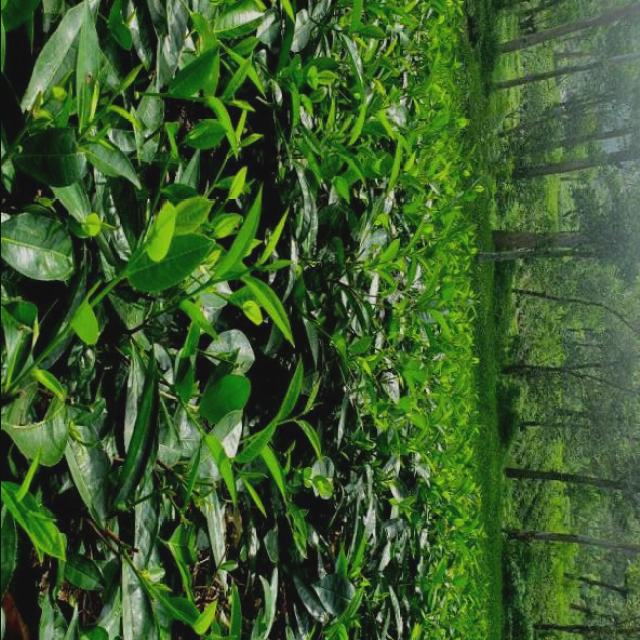Stem: (119, 273, 125, 278), (102, 107, 108, 112), (234, 274, 240, 277), (219, 98, 223, 102), (290, 418, 294, 421)
